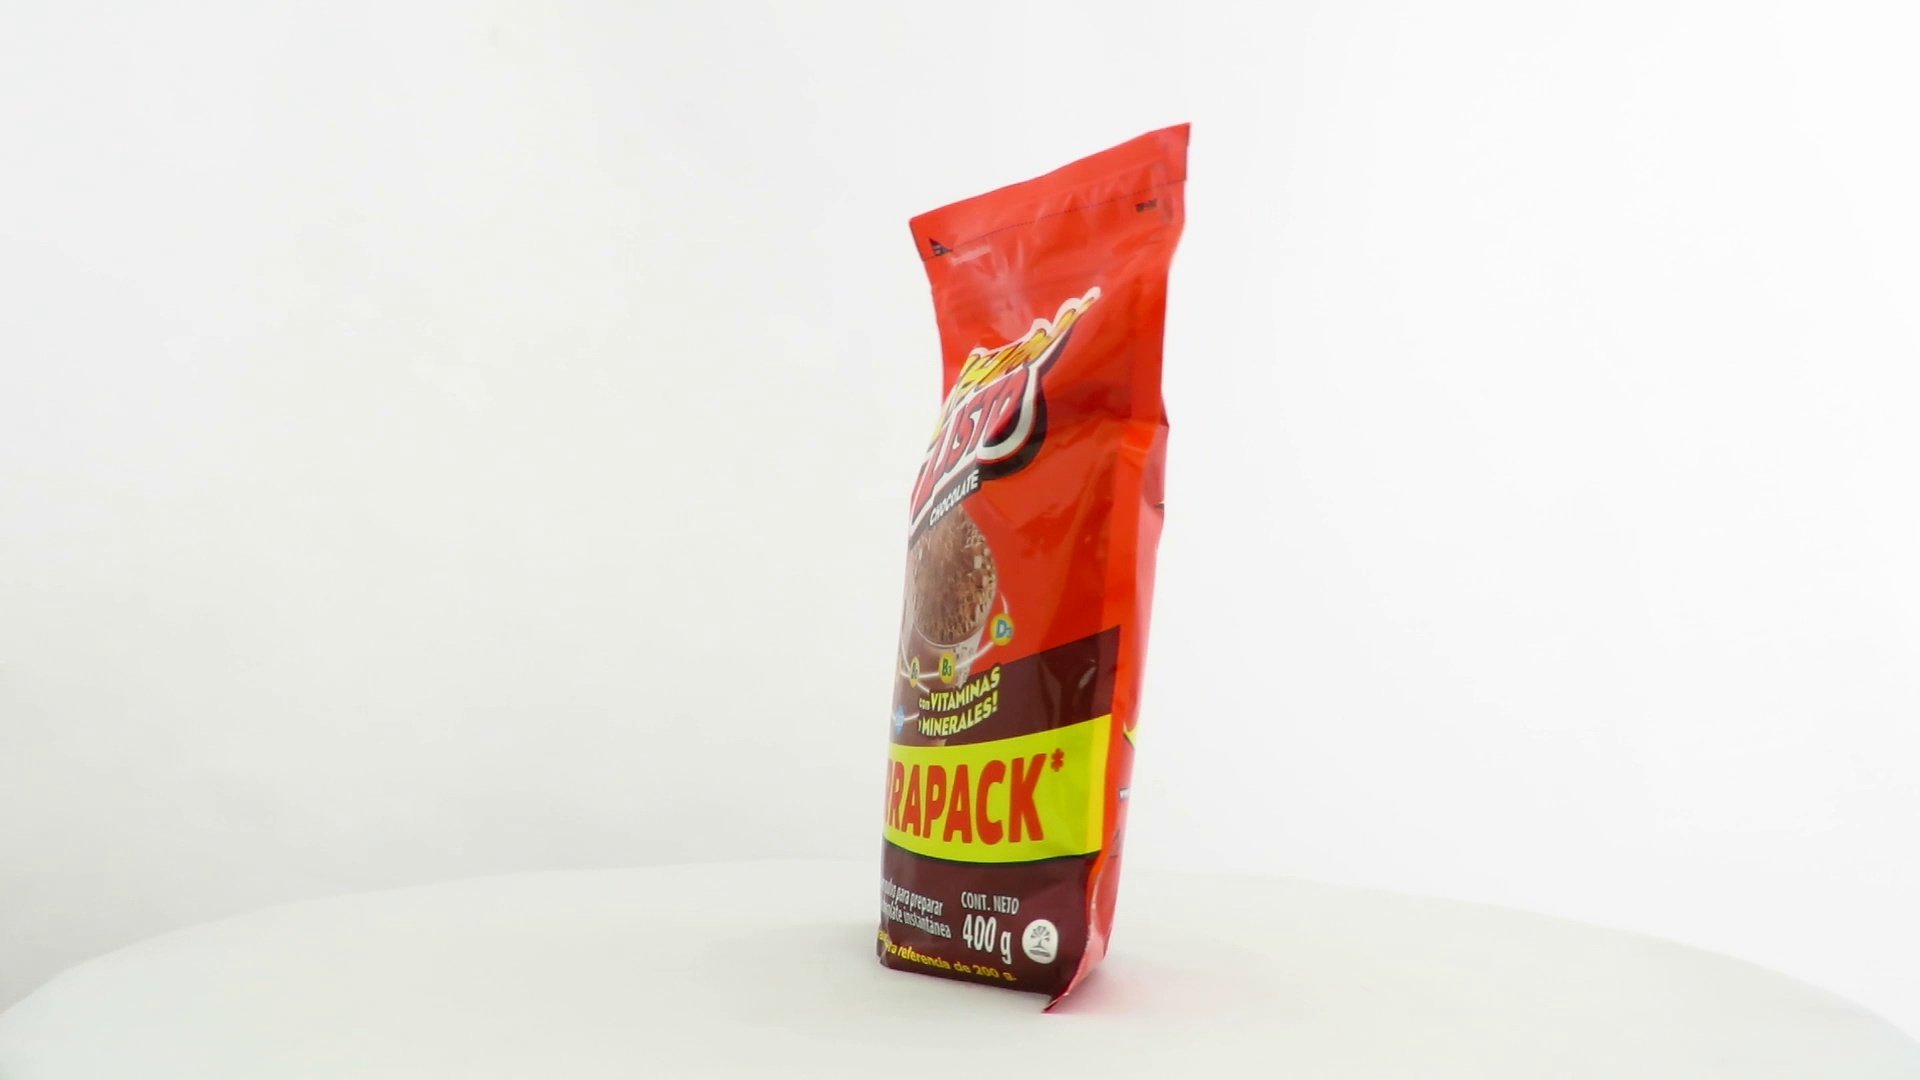COL0170103DYP40000: (872, 117, 1196, 1022)
